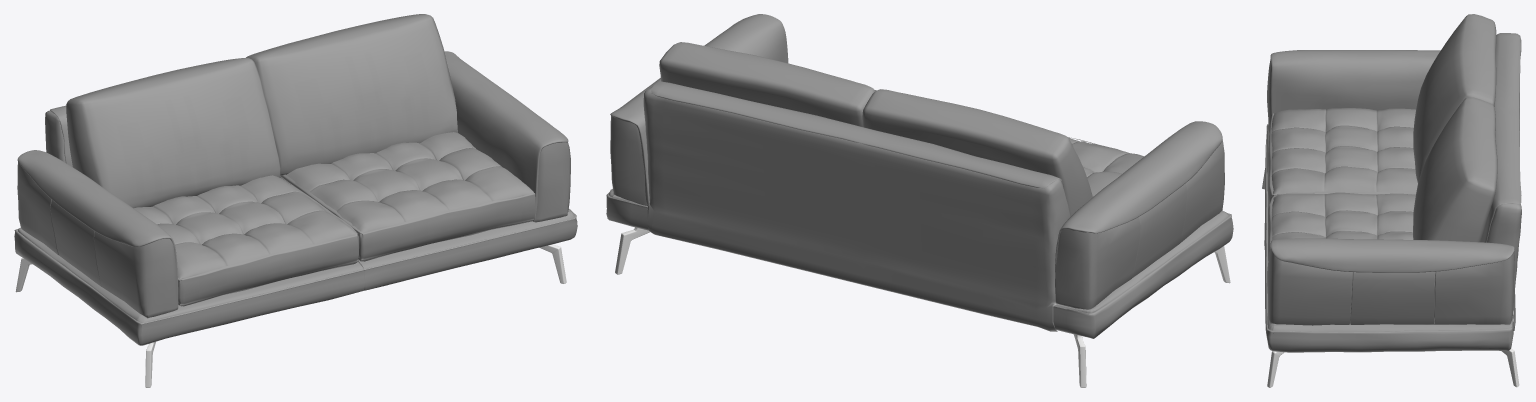
File: B07G2HBKB4.glb
3 renders of one model, left to right at view 1: azimuth 30°, elevation 25°; view 2: azimuth 150°, elevation 25°; view 3: azimuth 270°, elevation 25°, orthographic. The views are drawn at different scales.
Parts seen in each view (by area): view 1: RootNode; view 2: RootNode; view 3: RootNode.
Boxes of the visible parts, bbox=[...] form: RootNode: bbox=[14, 14, 577, 387]; RootNode: bbox=[606, 14, 1233, 387]; RootNode: bbox=[1262, 14, 1521, 387].
Size of the model in its own units: 2.18 by 0.9296 by 1.12.
Materials: 1 (1 with a texture image).
